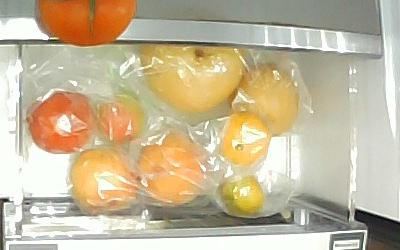peach_vinyl: (136, 131, 206, 204), (68, 144, 139, 211)
pear_vinyl: (137, 44, 244, 112), (225, 60, 299, 136)
tangerine_vinyl: (217, 110, 269, 165), (217, 172, 265, 217)
tomato_vinyl: (25, 88, 96, 154), (89, 87, 146, 146)
